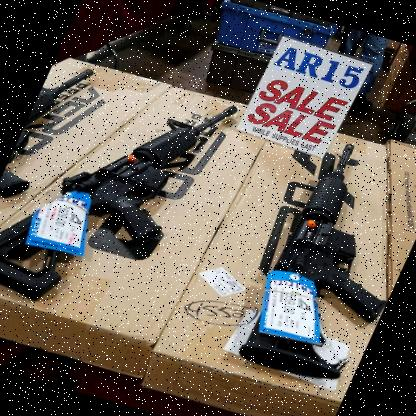rifle: (229, 134, 416, 392)
